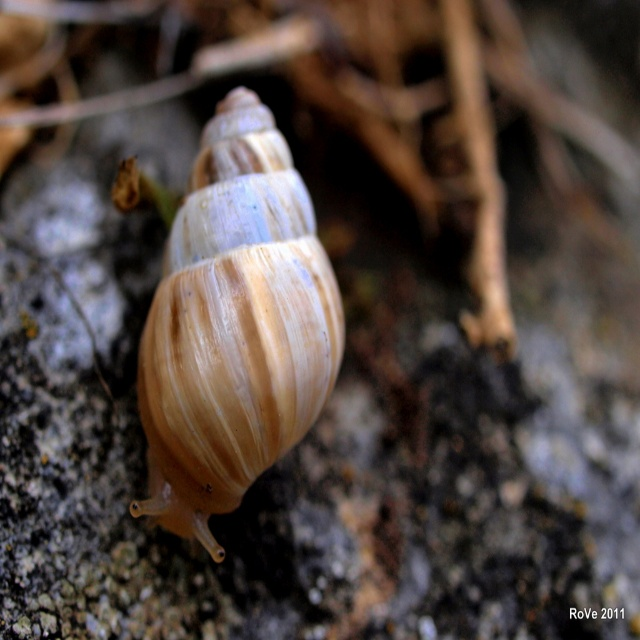Snail: (124, 81, 346, 565)
